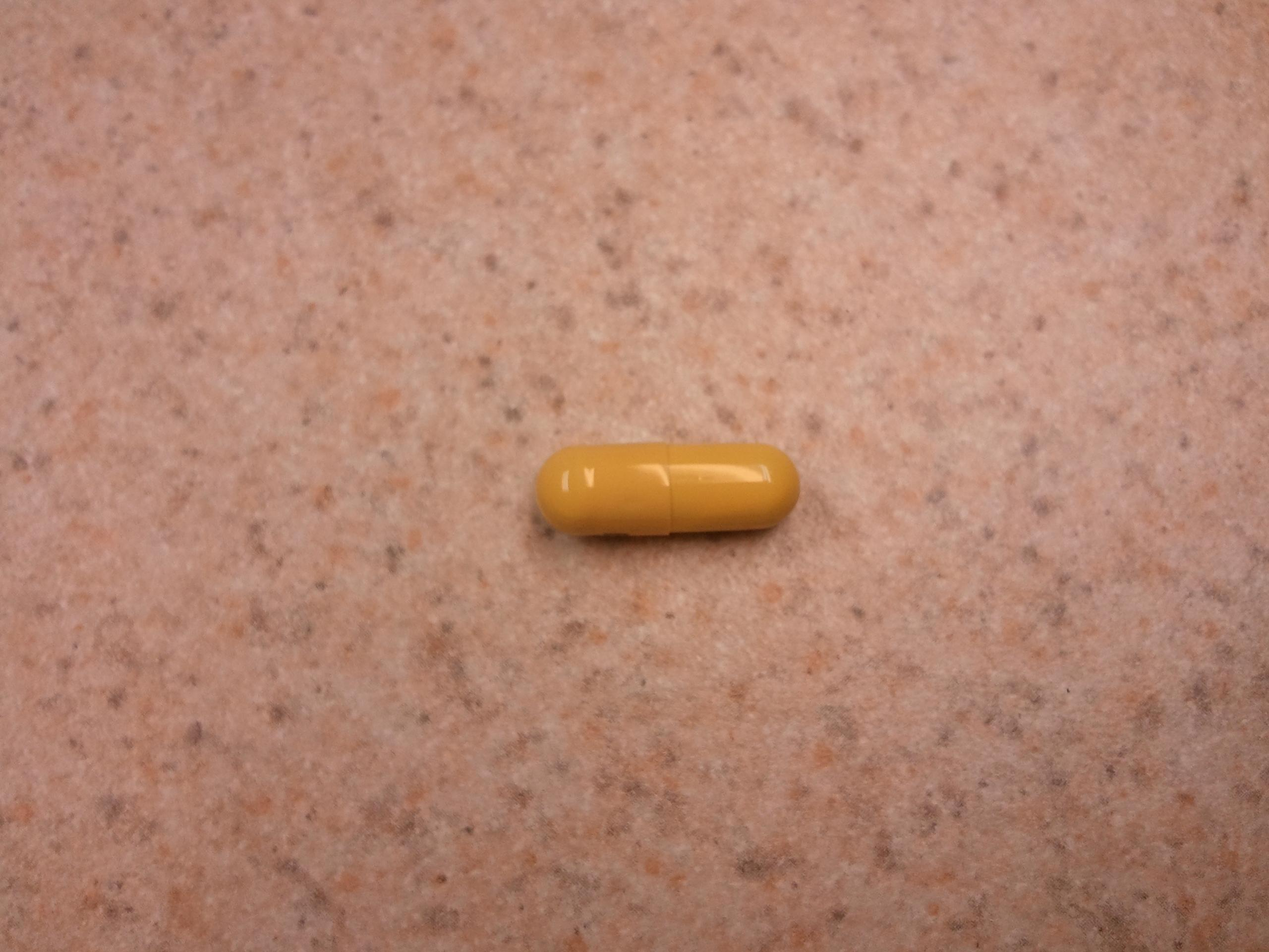Pill: (529, 431, 806, 545)
